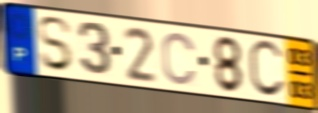2: (121, 25, 158, 83)
3: (75, 20, 113, 78)
8: (211, 34, 246, 95)
C: (246, 38, 288, 101), (160, 30, 198, 87)
S: (36, 15, 75, 74)
